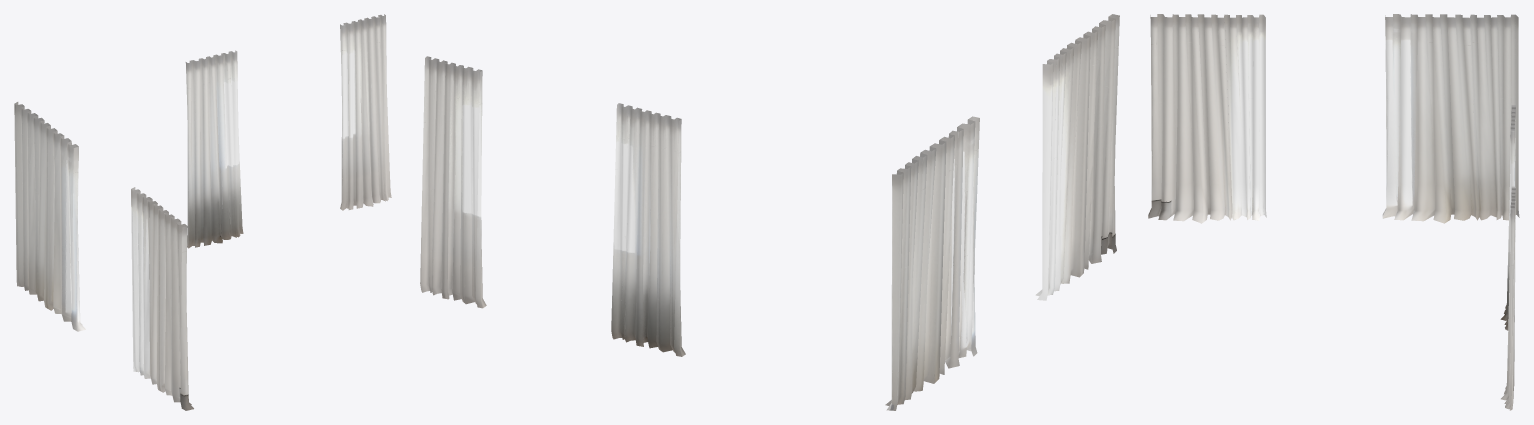
Rendered from screen1.gltf.
The picture shows the model from 3 angles, left to right: view 1: azimuth 30°, elevation 25°; view 2: azimuth 150°, elevation 25°; view 3: azimuth 270°, elevation 25°; orthographic projection. The views are drawn at different scales.
Parts seen in each view (by area): view 1: screen1; view 2: screen1; view 3: screen1.
Part boxes in pixels (box(x1,y1,x2,y2)): screen1: box(14, 14, 391, 410); screen1: box(420, 14, 1119, 410); screen1: box(1148, 14, 1519, 410).
Size of the model in its own units: 5.05 by 2.36 by 4.
1 material, 1 textured.
